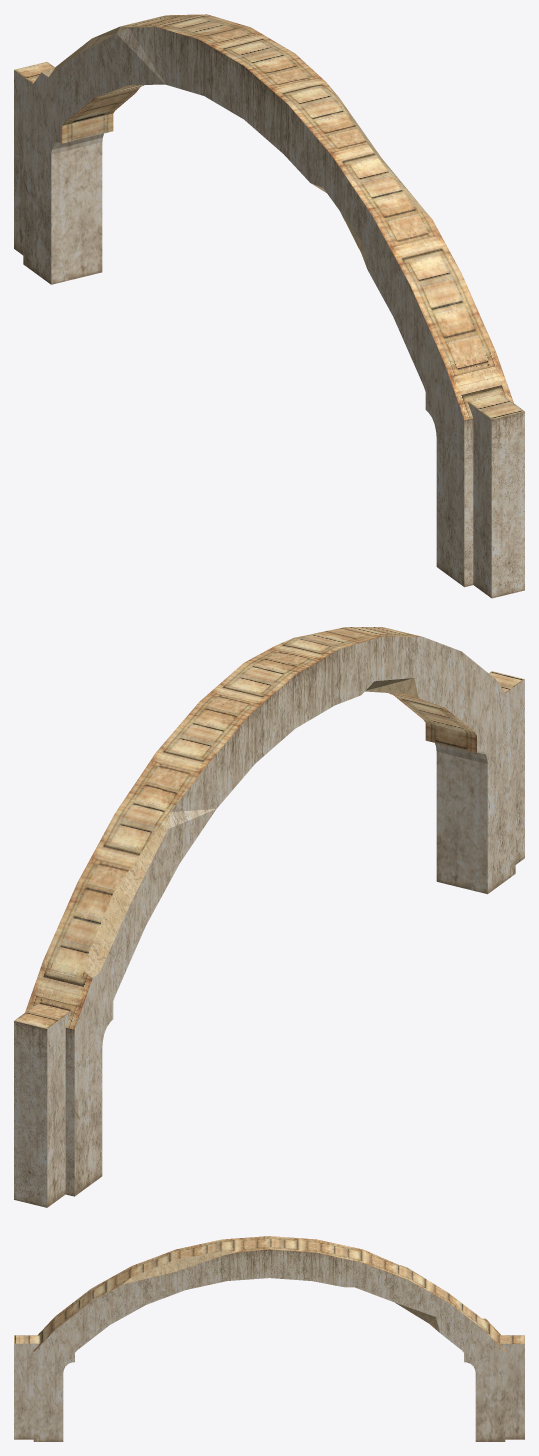
Rendered from thm_tato_imprv_archway_wide_s01_l0.fbx.
The picture shows the model from 3 angles, top to bottom: view 1: azimuth 30°, elevation 25°; view 2: azimuth 150°, elevation 25°; view 3: azimuth 270°, elevation 25°; orthographic projection. The views are drawn at different scales.
Visible parts, largest first — view 1: mesh_node; view 2: mesh_node; view 3: mesh_node.
Boxes of the visible parts, x1,y1,x2,y2 form: mesh_node: (14,14,524,598); mesh_node: (14,627,524,1207); mesh_node: (14,1236,524,1441).
Size of the model in its own units: 0.9899 by 6.65 by 16.
